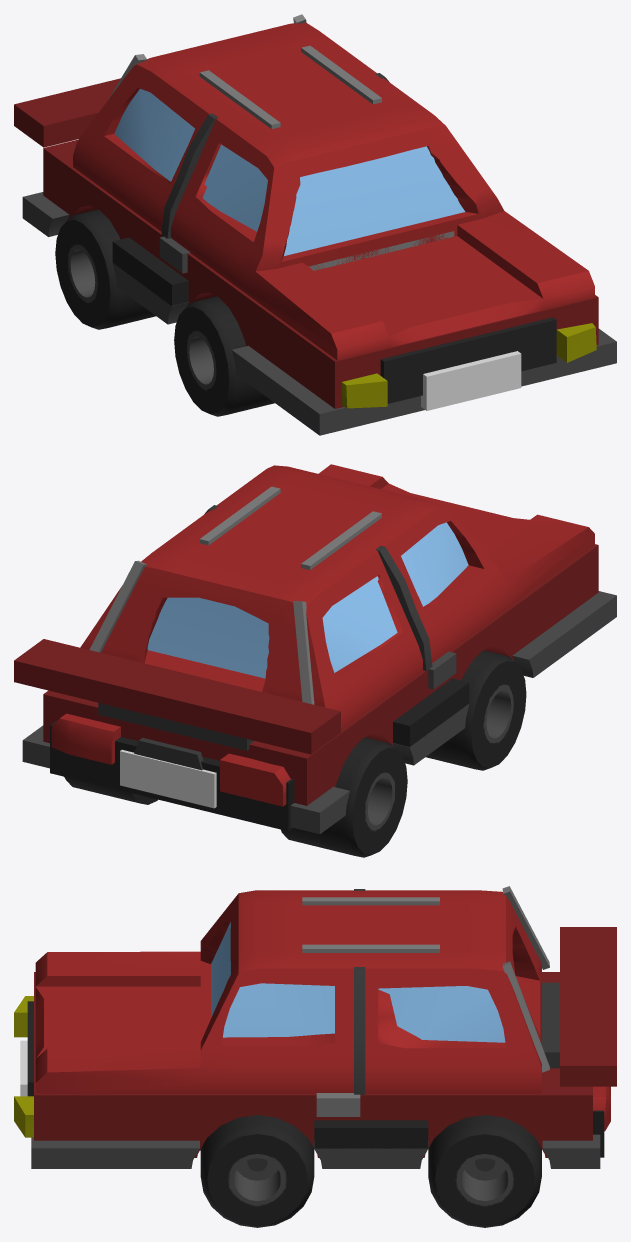
Rendered from car.obj.
The picture shows the model from 3 angles, top to bottom: view 1: azimuth 30°, elevation 25°; view 2: azimuth 150°, elevation 25°; view 3: azimuth 270°, elevation 25°; orthographic projection. The views are drawn at different scales.
Visible parts, largest first — view 1: group1 polySurface9, group1 pCube21, group1 polySurface1, group1 polySurface3, group1 pCube25, group1 pPipe5, group1 pPipe7, group1 pCube22, group1 pCube8, group1 pCube13, group1 pCube29, group1 pCube41 (+7 smaller); view 2: group1 polySurface9, group1 polySurface1, group1 pCube22, group1 pCube21, group1 polySurface3, group1 pPipe7, group1 pPipe5, group1 pCube38, group1 pCube33, group1 pCube42, group1 pCube13, group1 pCube39 (+11 smaller); view 3: group1 polySurface9, group1 polySurface1, group1 pCube21, group1 pCube22, group1 polySurface3, group1 pPipe1, pPipe3 group1, group1 pCube13, group1 pPipe2, group1 pPipe4, group1 pCube29, group1 pCube18 (+11 smaller).
Part boxes in pixels (x1,y1,x2,y2): group1 polySurface9: [73, 22, 594, 360]; group1 pCube21: [114, 89, 465, 255]; group1 polySurface1: [43, 139, 598, 408]; group1 polySurface3: [22, 192, 616, 435]; group1 pCube25: [380, 317, 556, 403]; group1 pPipe5: [174, 296, 274, 416]; group1 pPipe7: [55, 209, 155, 329]; group1 pCube22: [14, 78, 120, 147]; group1 pCube8: [421, 351, 521, 410]; group1 pCube13: [112, 237, 188, 305]; group1 pCube29: [161, 73, 389, 238]; group1 pCube41: [341, 373, 387, 408]; group1 polySurface9: [80, 464, 594, 730]; group1 polySurface1: [43, 544, 598, 805]; group1 pCube22: [14, 639, 340, 754]; group1 pCube21: [147, 522, 468, 678]; group1 polySurface3: [22, 591, 616, 834]; group1 pPipe7: [281, 737, 407, 857]; group1 pPipe5: [425, 650, 526, 770]; group1 pCube38: [50, 721, 294, 831]; group1 pCube33: [120, 749, 216, 808]; group1 pCube42: [220, 753, 290, 806]; group1 pCube13: [393, 678, 469, 746]; group1 pCube39: [51, 713, 120, 764]; group1 polySurface9: [35, 890, 541, 1093]; group1 polySurface1: [34, 972, 592, 1157]; group1 pCube21: [211, 921, 505, 1042]; group1 pCube22: [560, 927, 616, 1086]; group1 polySurface3: [31, 1134, 600, 1168]; group1 pPipe1: [200, 1115, 314, 1227]; pPipe3 group1: [428, 1115, 541, 1227]; group1 pCube13: [314, 1120, 428, 1148]; group1 pPipe2: [228, 1154, 286, 1206]; group1 pPipe4: [455, 1154, 513, 1206]; group1 pCube29: [354, 889, 365, 1094]; group1 pCube18: [542, 982, 559, 1068].
Size of the model in its own units: 2.89 by 2.32 by 5.3.
